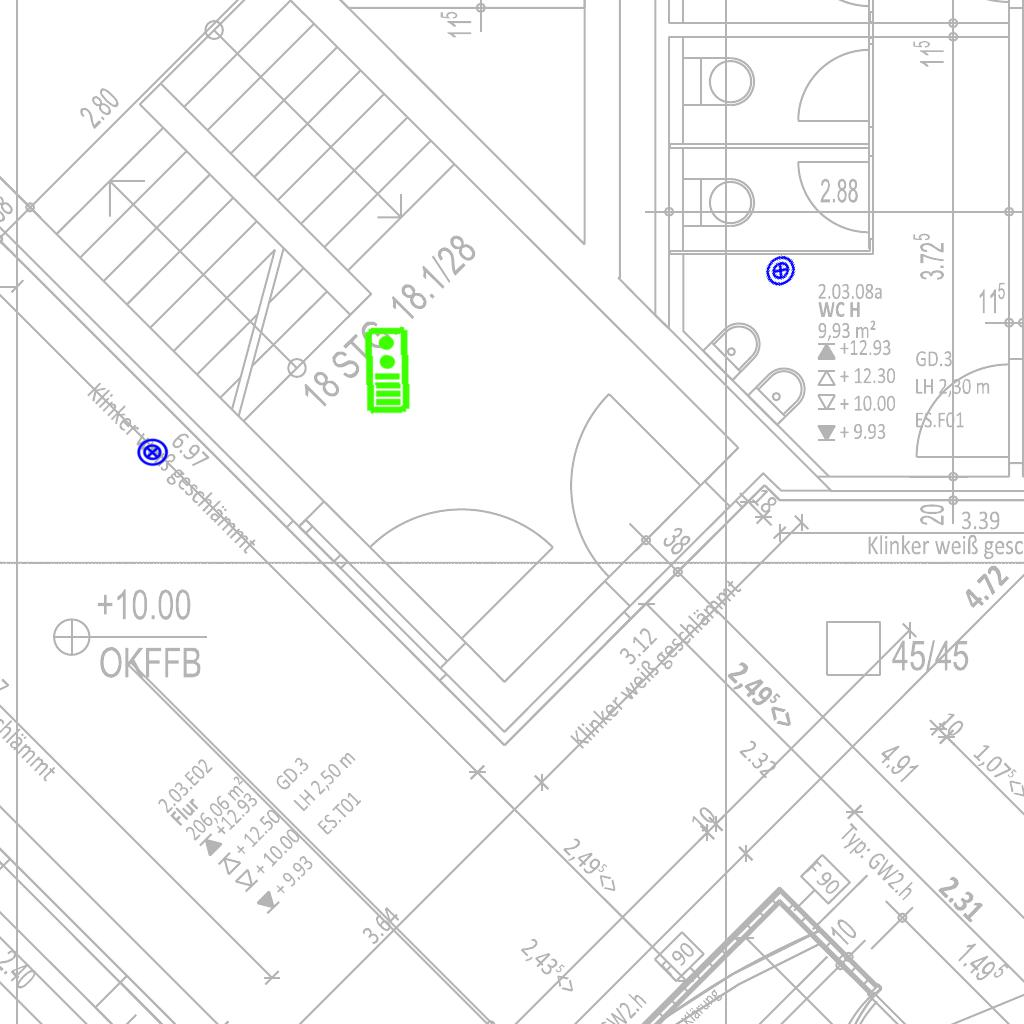Gegensprechanlage_mit_Video: (361, 325, 412, 415)
Taster_beleuchtet: (757, 247, 804, 294), (136, 436, 169, 469)
